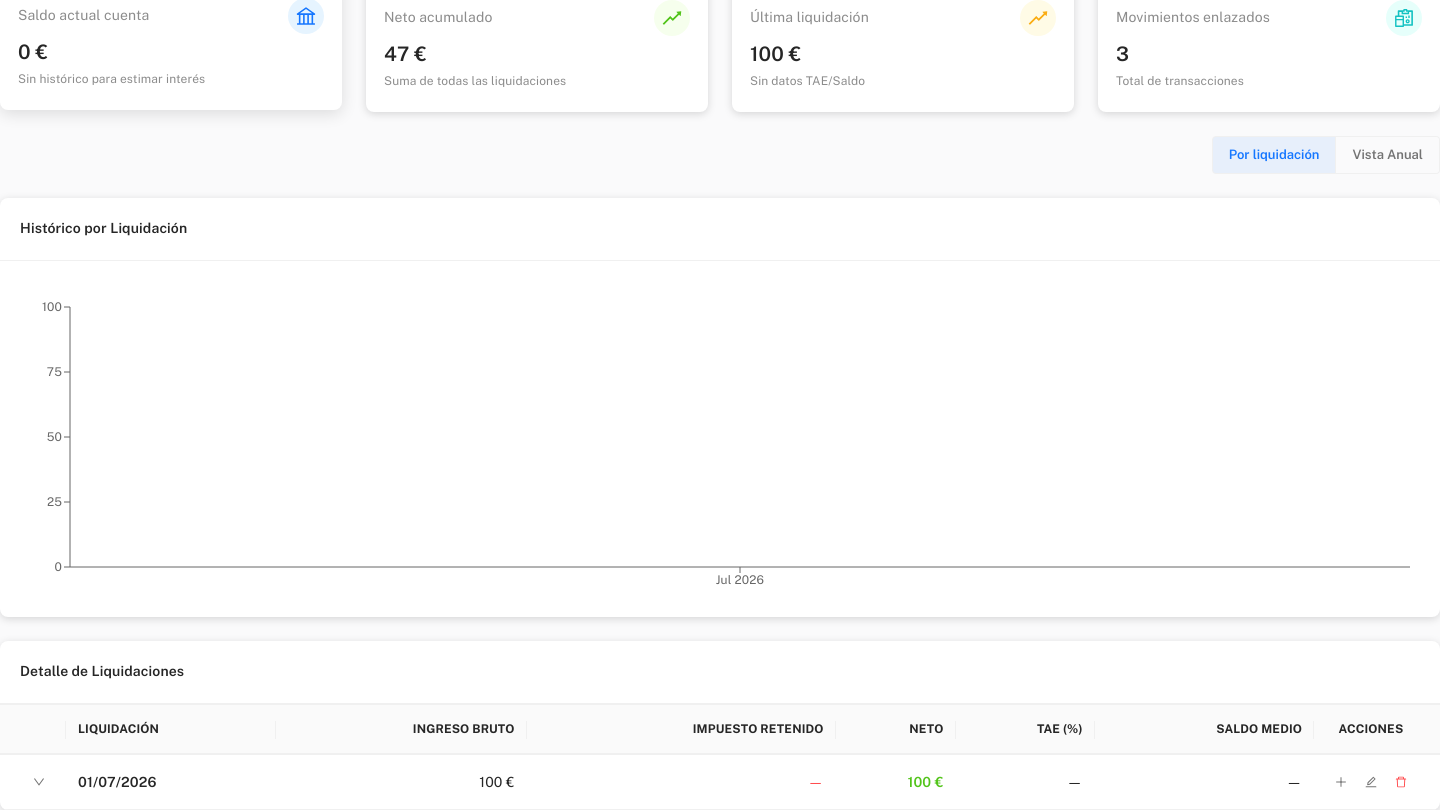
Test: YieldDetail › clicking "+" button on a row opens link modal without RadioGroup (settlement pre-fixed)
(page scrolled)
Click the button named "Añadir movimiento".
click(1341, 782)  # box [1326,767,1356,797]
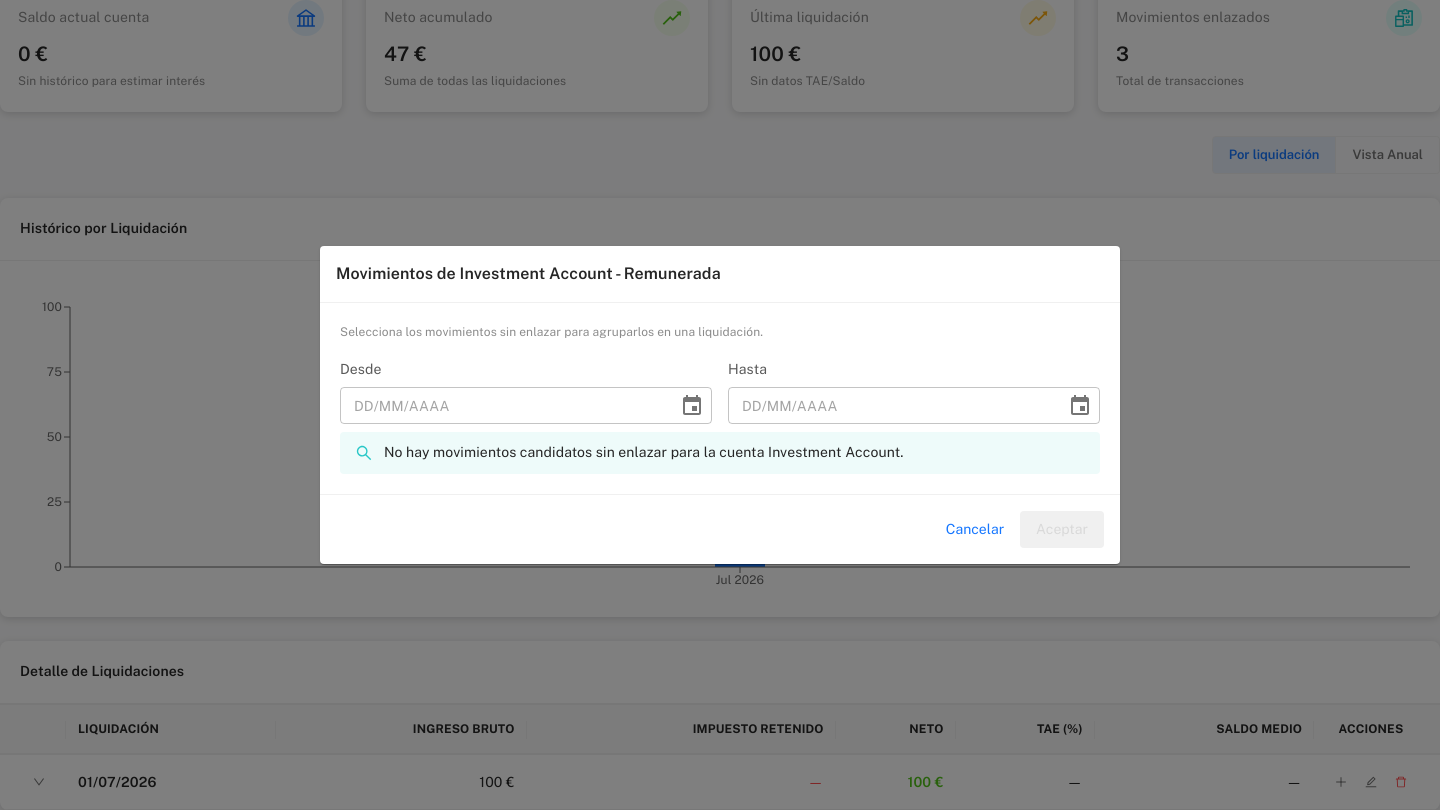
Now the text "Movimientos de" is shown, box [336,264,721,283]
